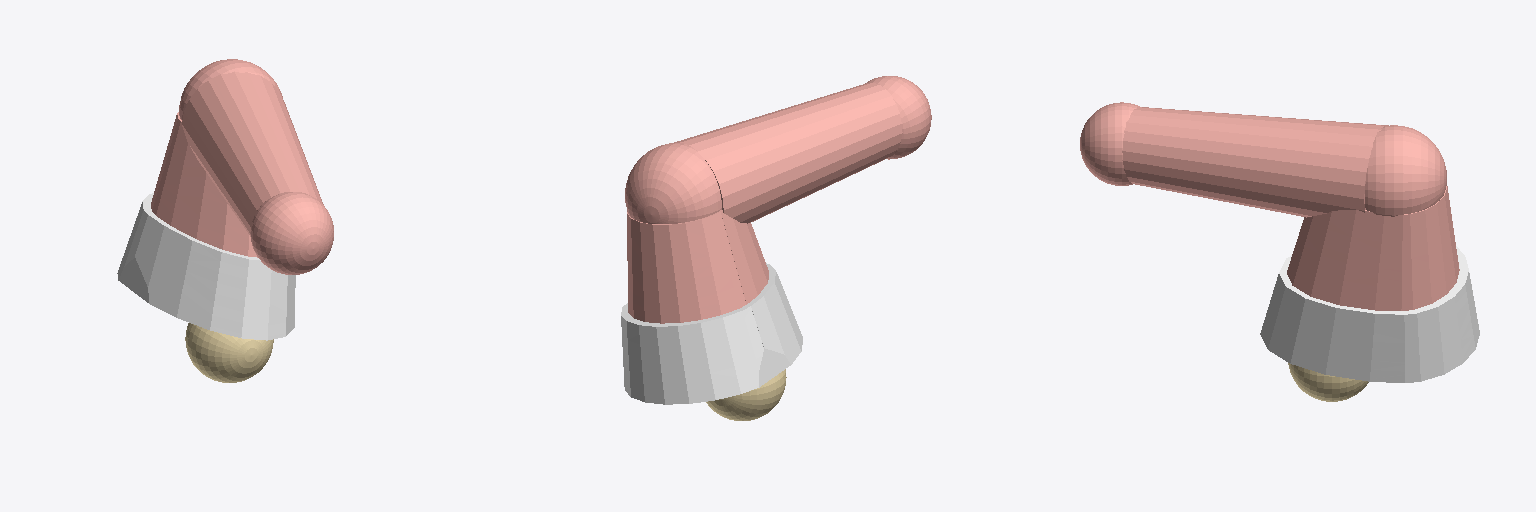
Rendered from tinker.obj.
The picture shows the model from 3 angles: view 1: azimuth 30°, elevation 25°; view 2: azimuth 150°, elevation 25°; view 3: azimuth 270°, elevation 25°; orthographic projection.
Visible parts, largest first — view 1: obj_0; view 2: obj_0; view 3: obj_0.
Part boxes in pixels (left/top/right/bottom): obj_0: left=117, top=59, right=333, bottom=382; obj_0: left=621, top=76, right=931, bottom=420; obj_0: left=1080, top=102, right=1479, bottom=401.
Size of the model in its own units: 17.71 by 30.46 by 38.85.